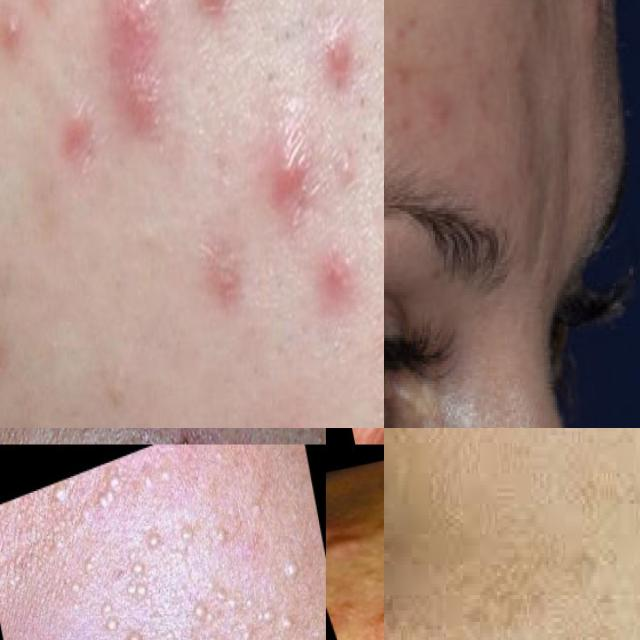milium: (169, 502, 239, 570), (68, 462, 131, 530), (54, 544, 108, 621), (182, 578, 239, 640), (135, 452, 186, 513), (246, 589, 300, 640), (117, 553, 153, 608), (93, 591, 123, 640), (276, 549, 304, 586), (122, 618, 169, 640), (144, 525, 164, 557)
papule: (271, 144, 334, 230), (58, 92, 108, 189), (326, 240, 364, 356), (327, 0, 359, 101), (192, 0, 252, 29)
pustule: (326, 497, 384, 564)
sebo-crystan-conglo: (107, 0, 167, 154), (0, 0, 37, 111)
